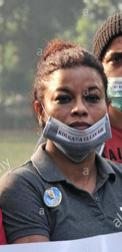Wore Mask Incorrectly: (34, 60, 122, 167)
